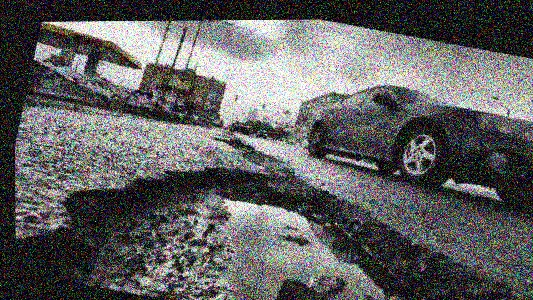pothole: (15, 117, 533, 300)
